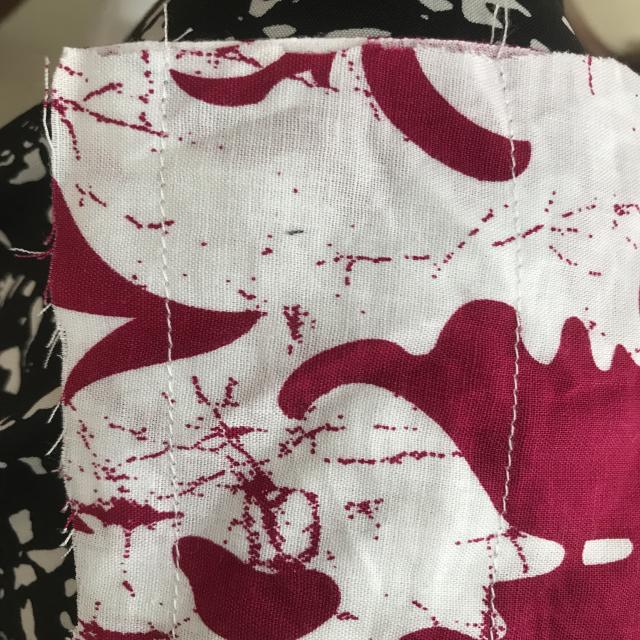good: (142, 136, 182, 282), (149, 396, 192, 500), (500, 382, 526, 498), (156, 300, 196, 358)
